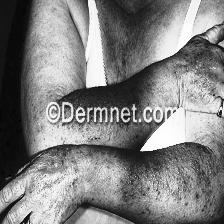Benign Marking or Mole: (144, 160, 216, 206)
